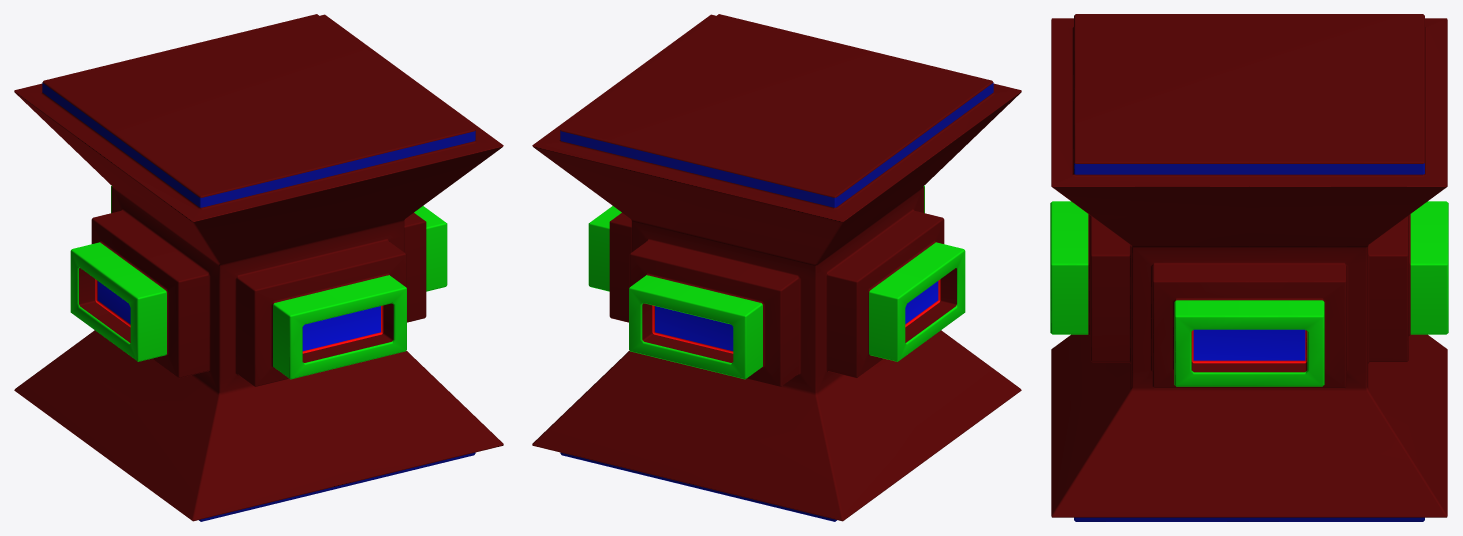
Rendered from Player01.fbx.
3 views of the same model, side by side, from view 1: azimuth 30°, elevation 25°; view 2: azimuth 150°, elevation 25°; view 3: azimuth 270°, elevation 25° (orthographic). The views are drawn at different scales.
Parts seen in each view (by area): view 1: Player 01; view 2: Player 01; view 3: Player 01.
Boxes of the visible parts, x1,y1,x2,y2 form: Player 01: [14, 14, 503, 521]; Player 01: [532, 14, 1021, 521]; Player 01: [1050, 14, 1448, 521].
Size of what is drawn, in the model's own units: 99.97 by 100 by 100.
